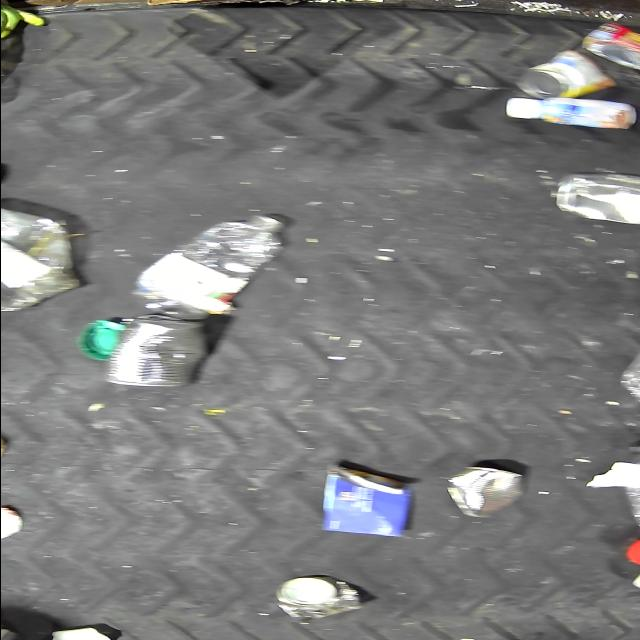can: (518, 49, 616, 99), (554, 172, 640, 225), (272, 575, 364, 619), (446, 466, 526, 516)
non_white_jug: (317, 466, 411, 536)
plastic_bottle: (133, 215, 285, 316), (100, 314, 210, 388)
